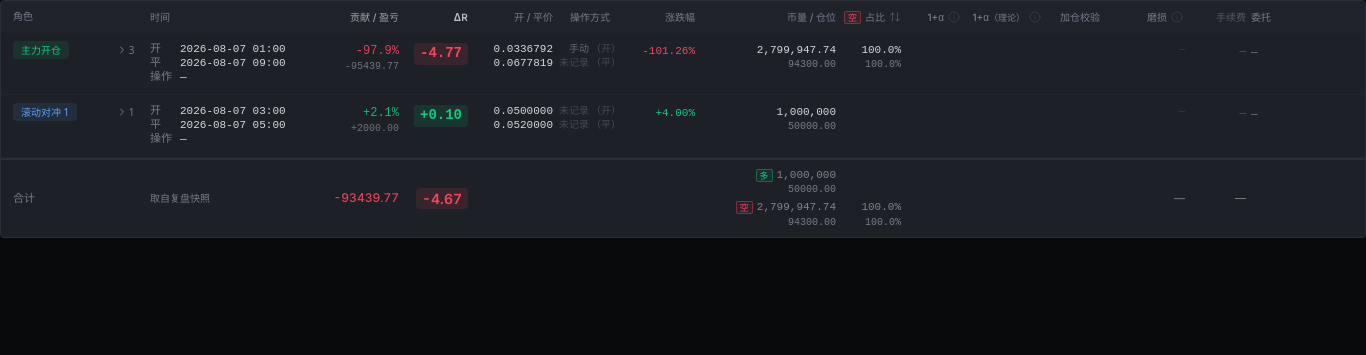
it: Legs 列表的「涨跌幅」列 › 主力阶段子行与合计行 › 主力是空单时，阶段子行按主力方向翻号：同一组起止价，正负与多单相反
Click the button with test id "leg-phases-toggle-main": (127, 50) [113,41,141,59]
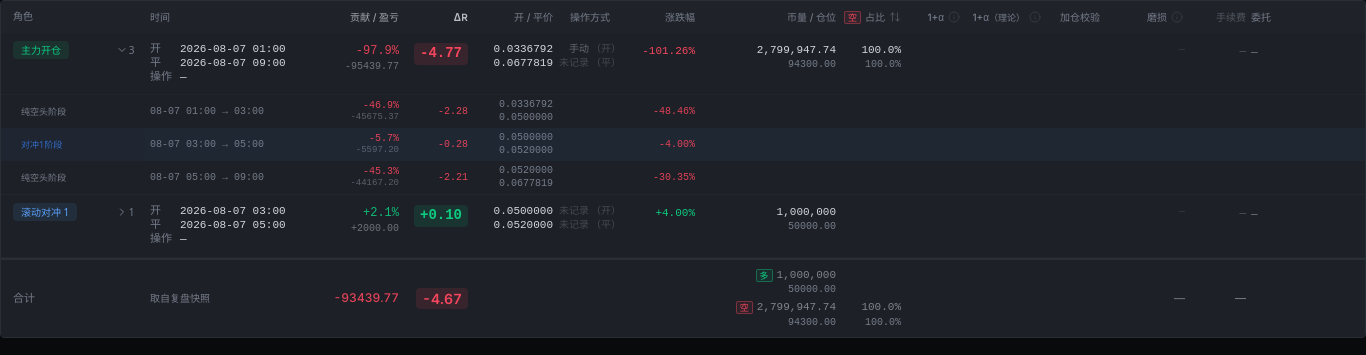
Expected: the text with test id "leg-phase-price-change-main-1" reads "-48.46%", [653,106,695,117]
Expected: the text with test id "leg-phase-price-change-main-2" reads "-4.00%", [659,139,695,150]
Expected: the text with test id "leg-phase-price-change-main-3" reads "-30.35%", [653,172,695,183]
